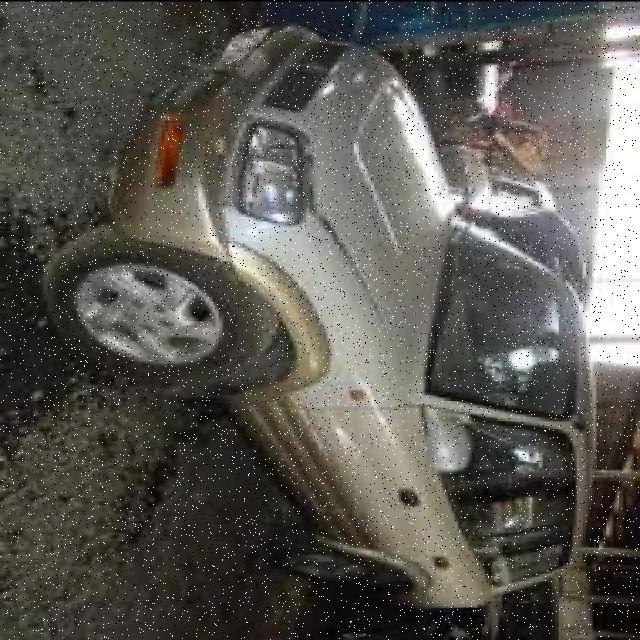damage: (163, 46, 262, 104)
